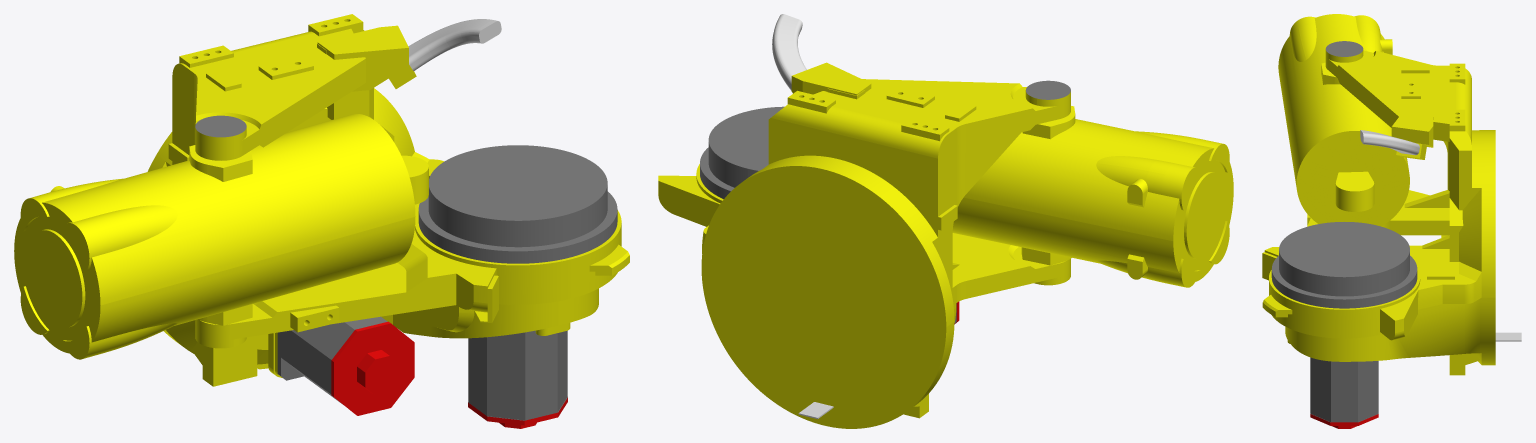
The picture shows the model from 3 angles, left to right: view 1: azimuth 30°, elevation 25°; view 2: azimuth 150°, elevation 25°; view 3: azimuth 270°, elevation 25°; orthographic projection. The views are drawn at different scales.
Parts seen in each view (by area): view 1: Mesh_0; view 2: Mesh_0; view 3: Mesh_0.
Part boxes in pixels (x1,y1,x2,y2): Mesh_0: (14,14,629,428); Mesh_0: (658,14,1233,428); Mesh_0: (1262,14,1521,428).
Bounding box in the file's own units: 1.26 × 0.8058 × 0.6611.
